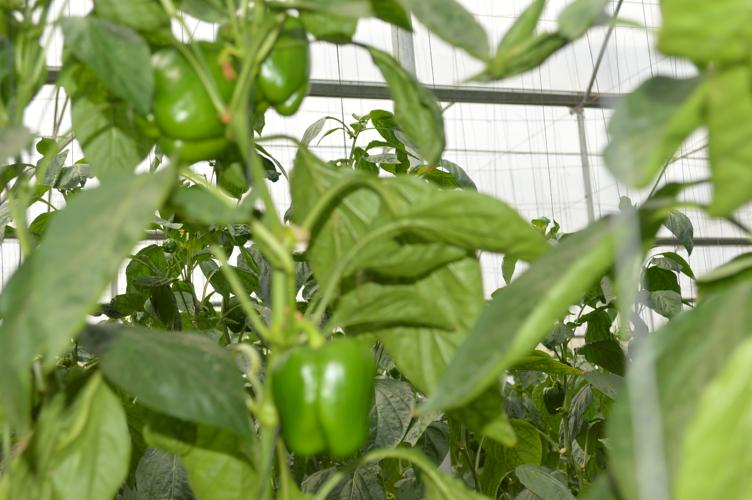BellPepper: (137, 41, 239, 158), (270, 340, 373, 455), (254, 24, 309, 116)
